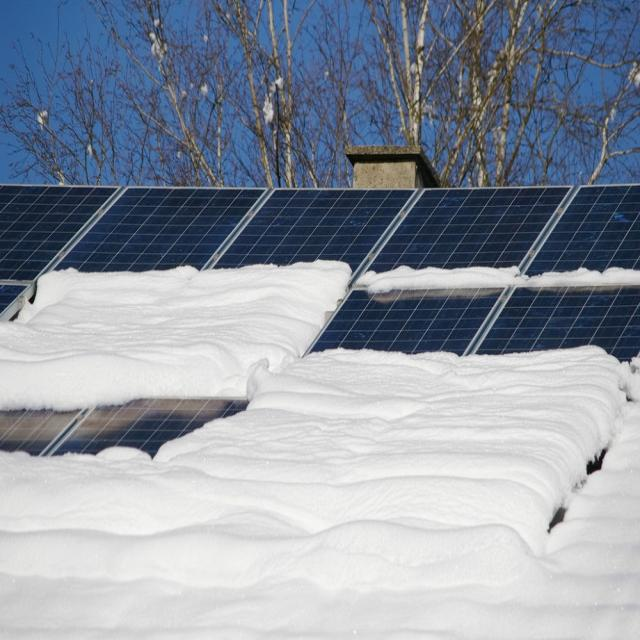snow covered: (8, 267, 634, 640)
